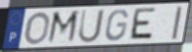E: (127, 7, 157, 41)
G: (104, 8, 130, 42)
I: (170, 5, 184, 41)
M: (45, 9, 81, 46)
O: (23, 11, 52, 46)
U: (76, 9, 105, 45)
